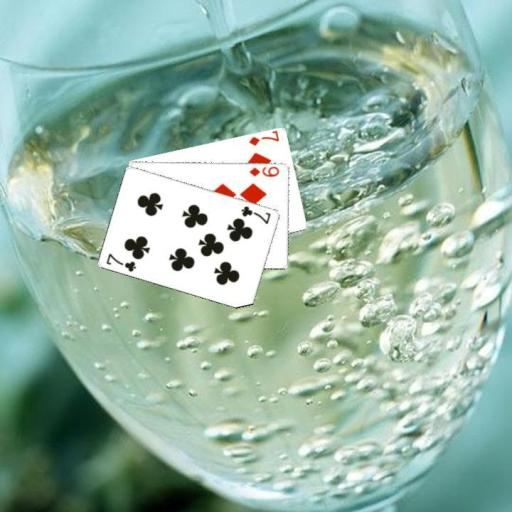7C: (103, 250, 138, 273), (239, 203, 273, 226)
7D: (246, 129, 281, 147)
9D: (247, 164, 281, 178)
